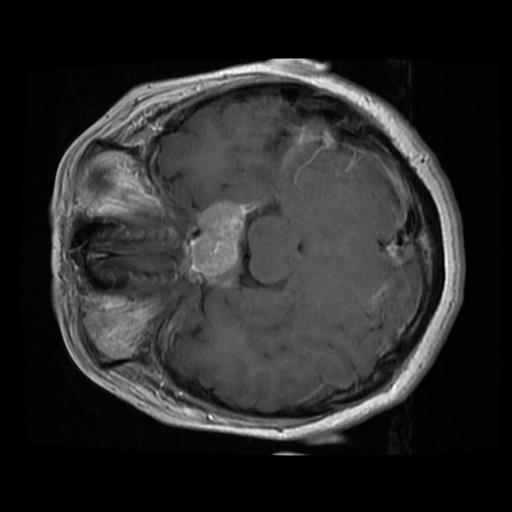pituitary tumour: (185, 201, 243, 278)
